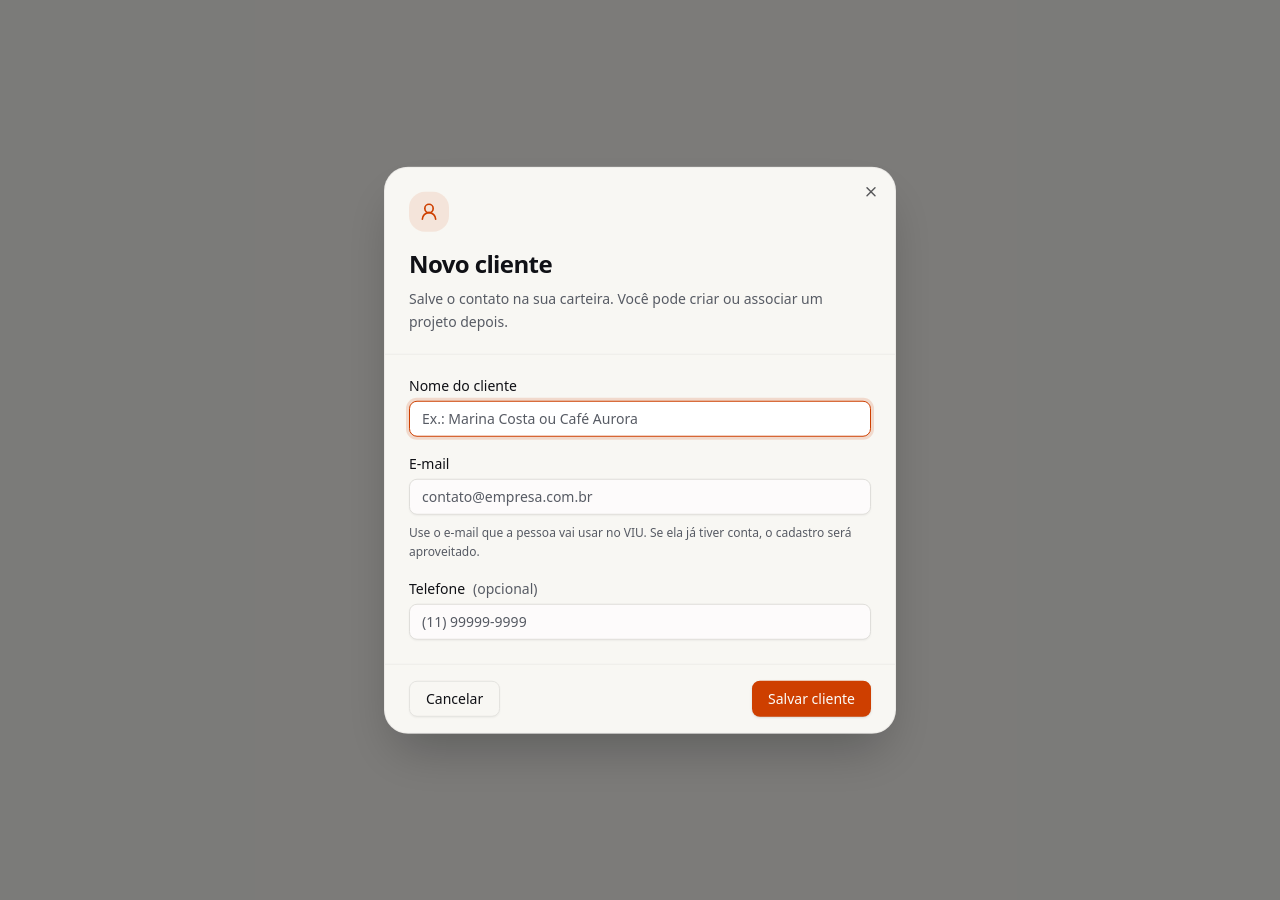
it: mantém os dados e o modal aberto ao falhar
Type "Café Aurora" into the field labelled "Nome do cliente" at [640, 418], box x1=409 y1=400 x2=871 y2=436
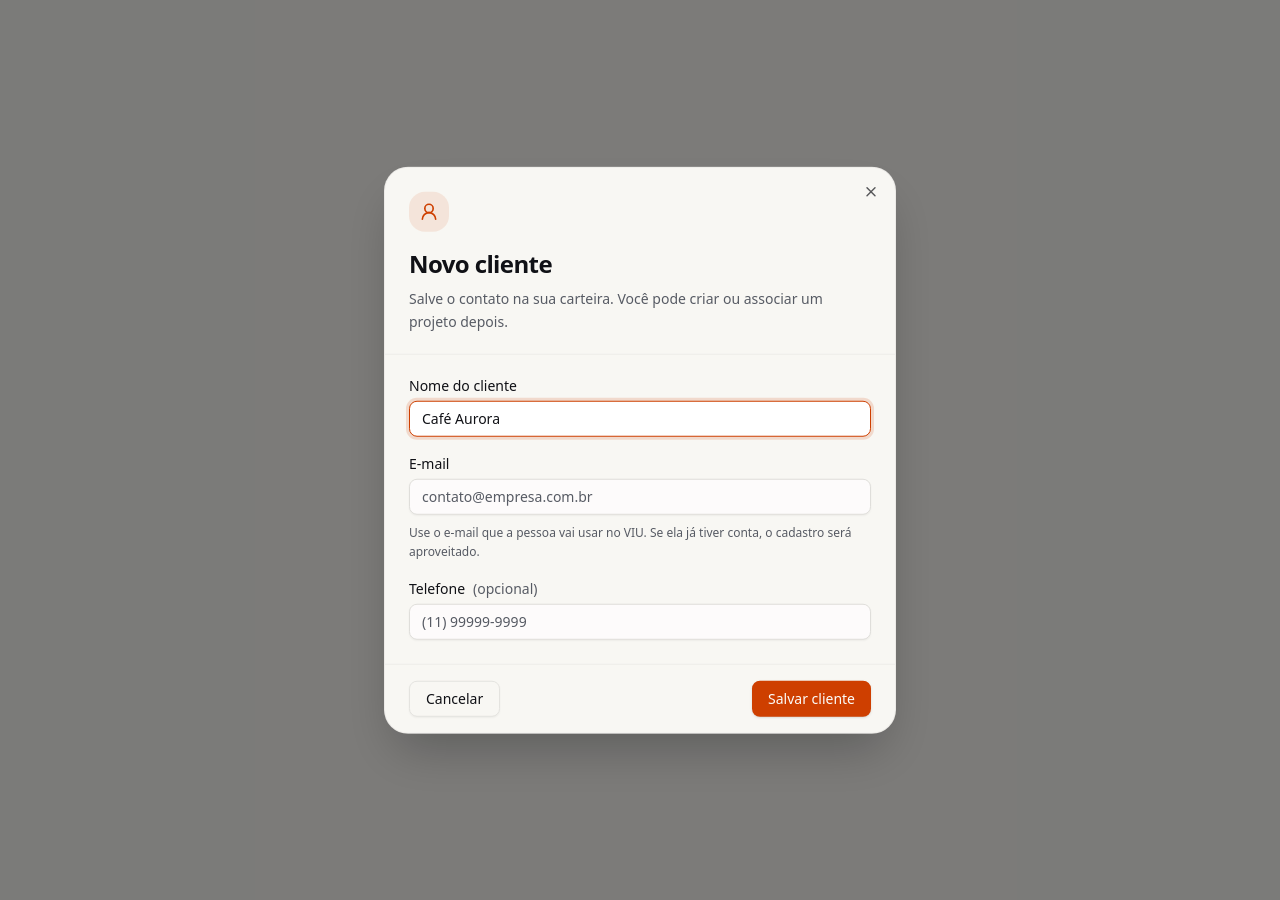
Type "CONTATO@AURORA.COM" into the field labelled "E-mail" at [640, 496], box x1=409 y1=478 x2=871 y2=514
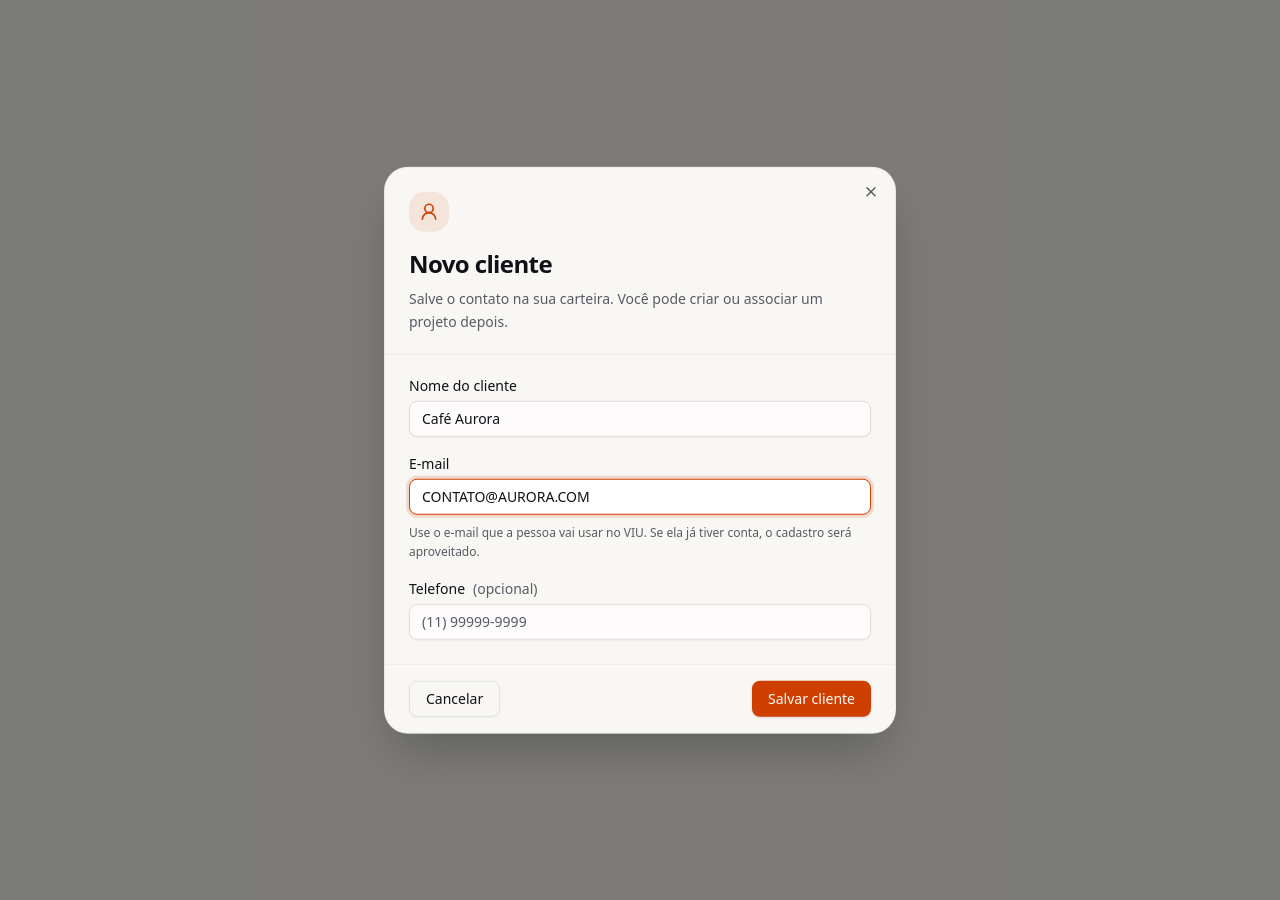
Click the button "Salvar cliente" at [812, 698], box x1=752 y1=680 x2=871 y2=716
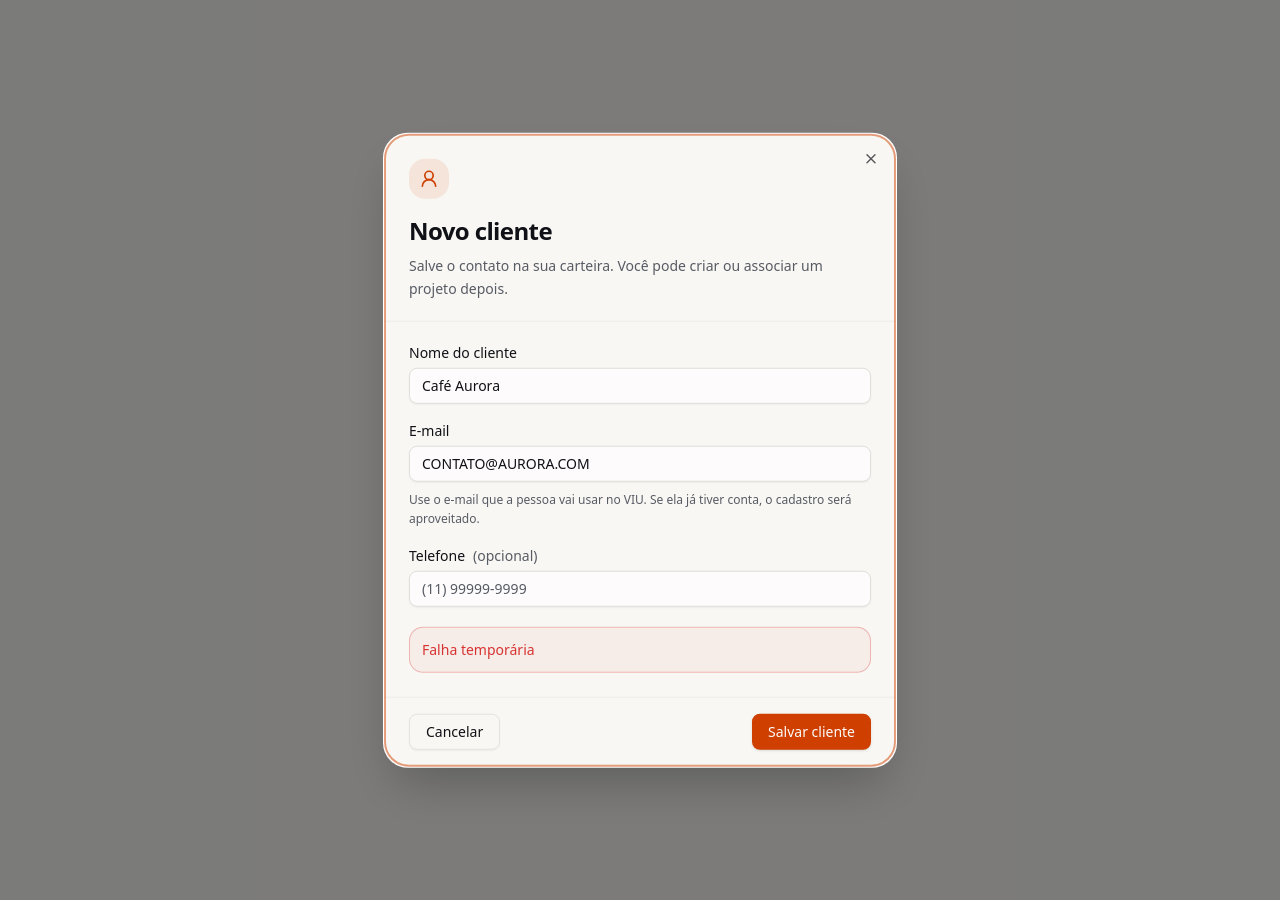
Check: the message reads "Falha temporária", box x1=422 y1=639 x2=535 y2=658
